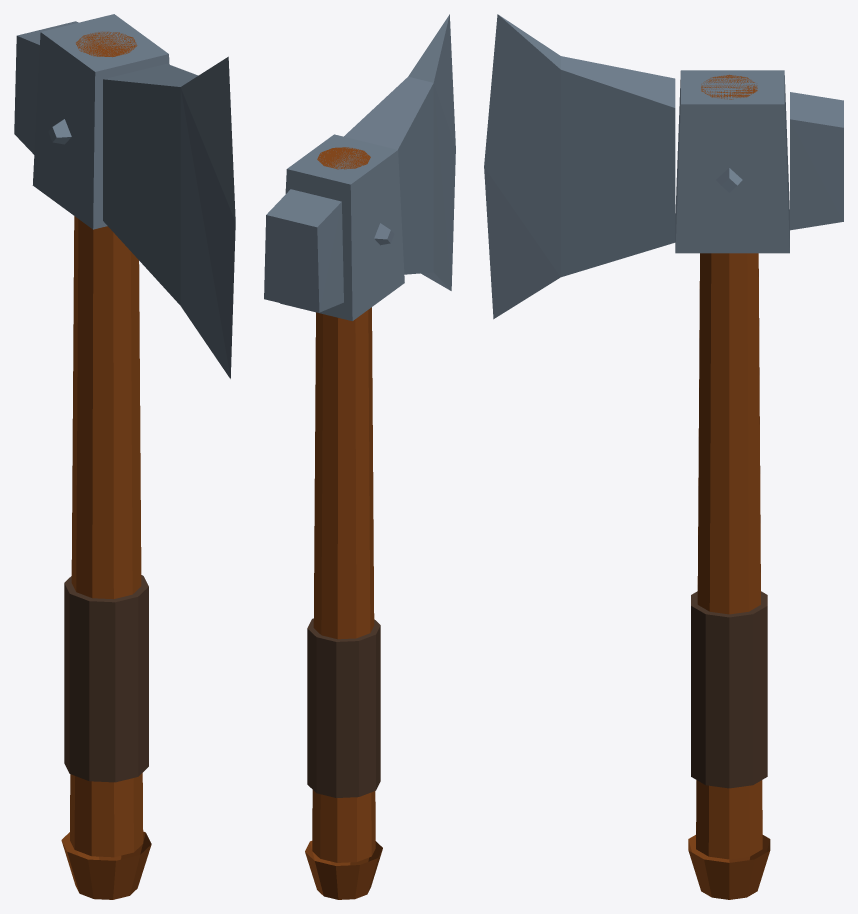
Rendered from axe.glb.
3 renders of one model, left to right at view 1: azimuth 30°, elevation 25°; view 2: azimuth 150°, elevation 25°; view 3: azimuth 270°, elevation 25°, orthographic. The views are drawn at different scales.
Visible parts, largest first — view 1: Axe; view 2: Axe; view 3: Axe.
Part boxes in pixels (x1,y1,x2,y2): Axe: [14, 14, 235, 899]; Axe: [264, 14, 455, 899]; Axe: [484, 14, 843, 899].
Bounding box in the file's own units: 0.088 × 0.715 × 0.267.
